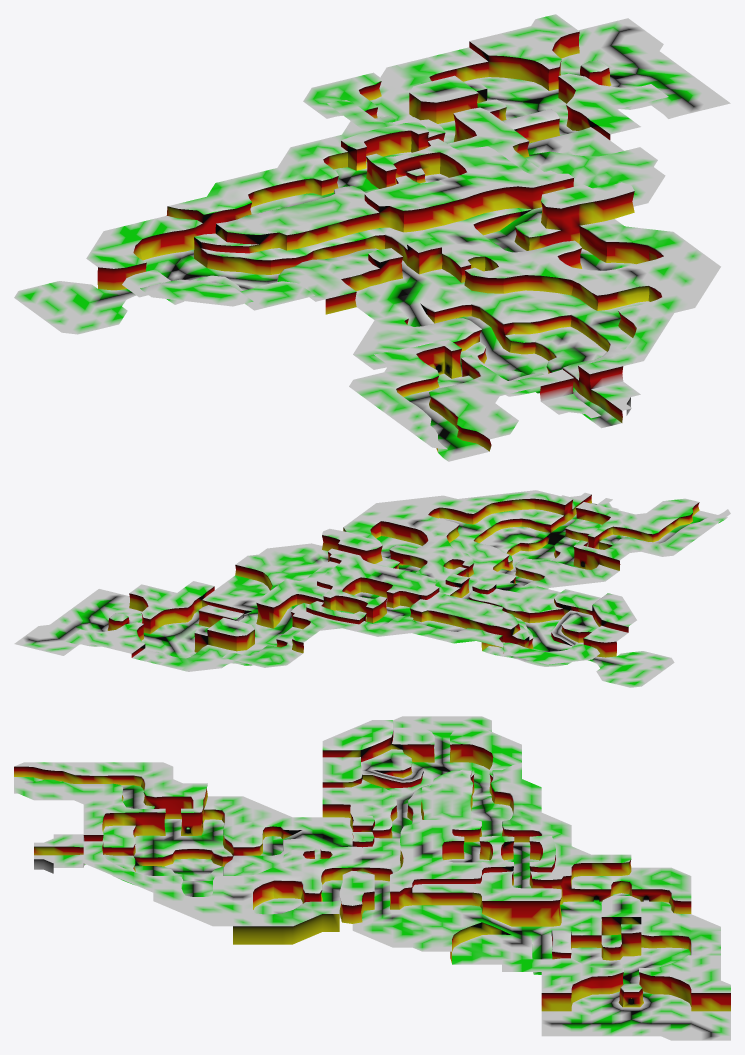
The model's file is level-2.glb.
The picture shows the model from 3 angles, top to bottom: view 1: azimuth 30°, elevation 25°; view 2: azimuth 150°, elevation 25°; view 3: azimuth 270°, elevation 25°; orthographic projection. The views are drawn at different scales.
Visible parts, largest first — view 1: level-2; view 2: level-2; view 3: level-2.
Part boxes in pixels (x1,y1,x2,y2): level-2: [14, 14, 730, 461]; level-2: [14, 490, 730, 687]; level-2: [14, 716, 730, 1040].
Bounding box in the file's own units: 259 × 20 × 252.
